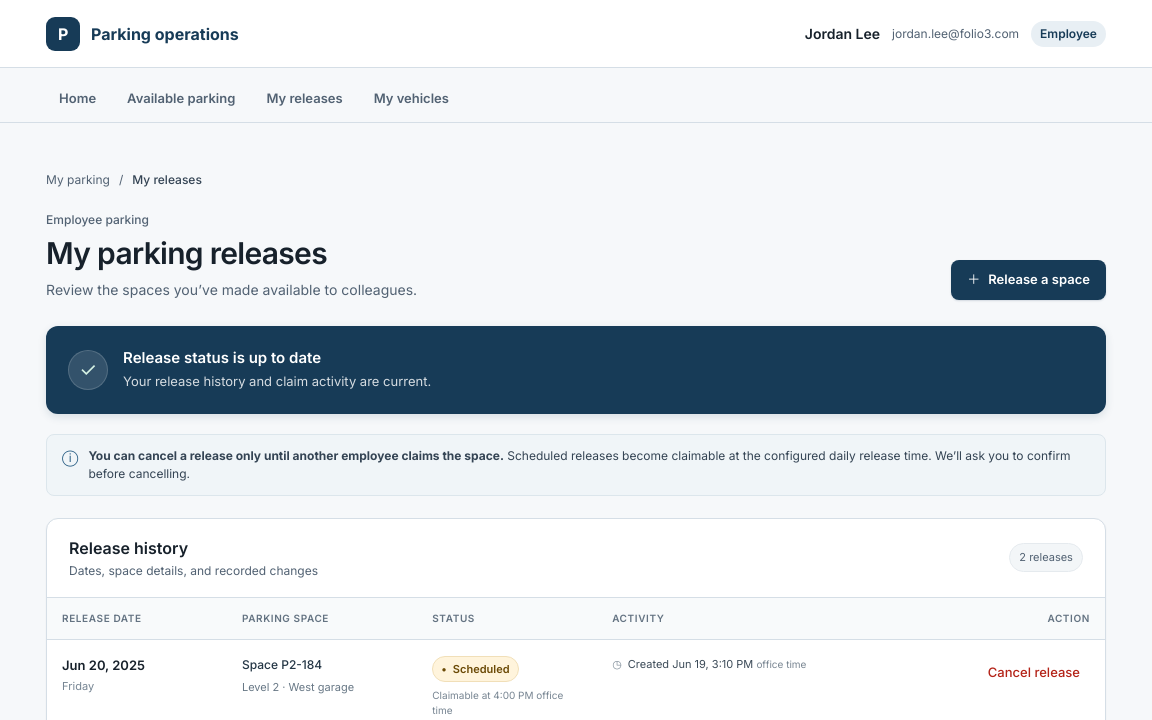
My parking releases › [AC-3] retrieves release history and requires confirmation before cancelling an unclaimed release
Expected: the heading "My parking releases" is shown, left=46, top=234, right=327, bottom=270
Expected: the heading "Release status is up to date" is shown, left=123, top=348, right=321, bottom=367
Click the button with aria-label "Cancel release for Jun 20, 2025". click: (1034, 672)
box: left=978, top=656, right=1090, bottom=688
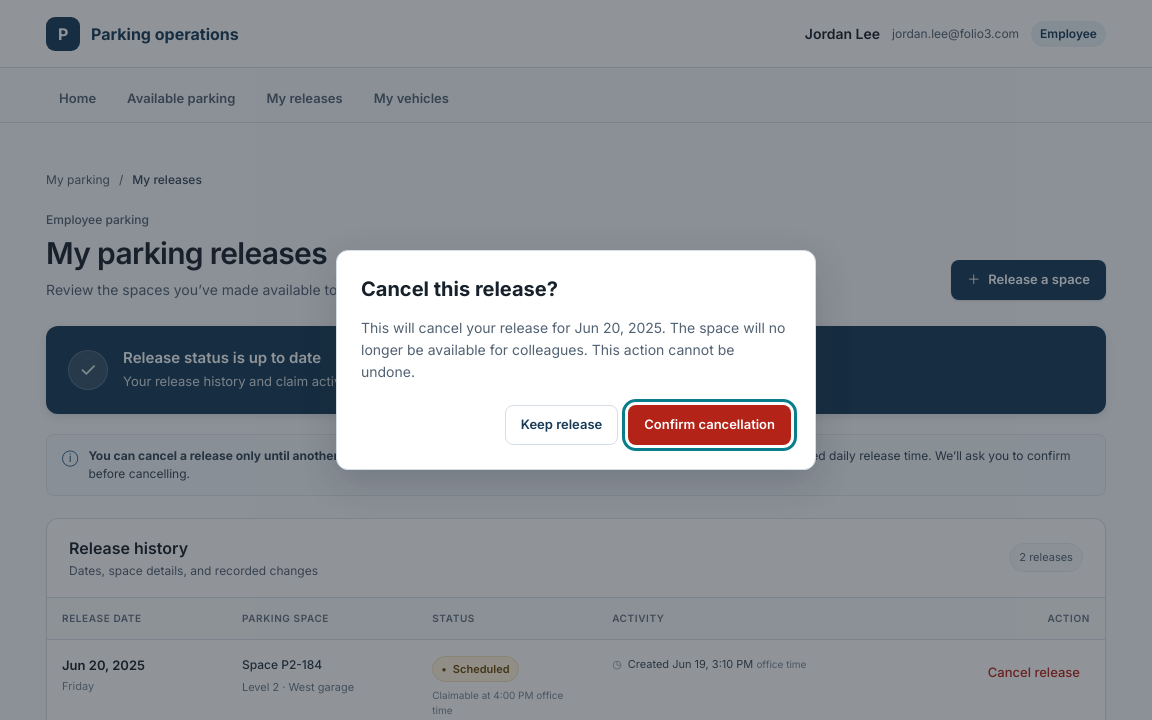
Expected: the dialog "Cancel this release?" is shown, left=336, top=250, right=816, bottom=470
Click the button "Confirm cancellation". click: (710, 424)
box: left=628, top=404, right=791, bottom=444
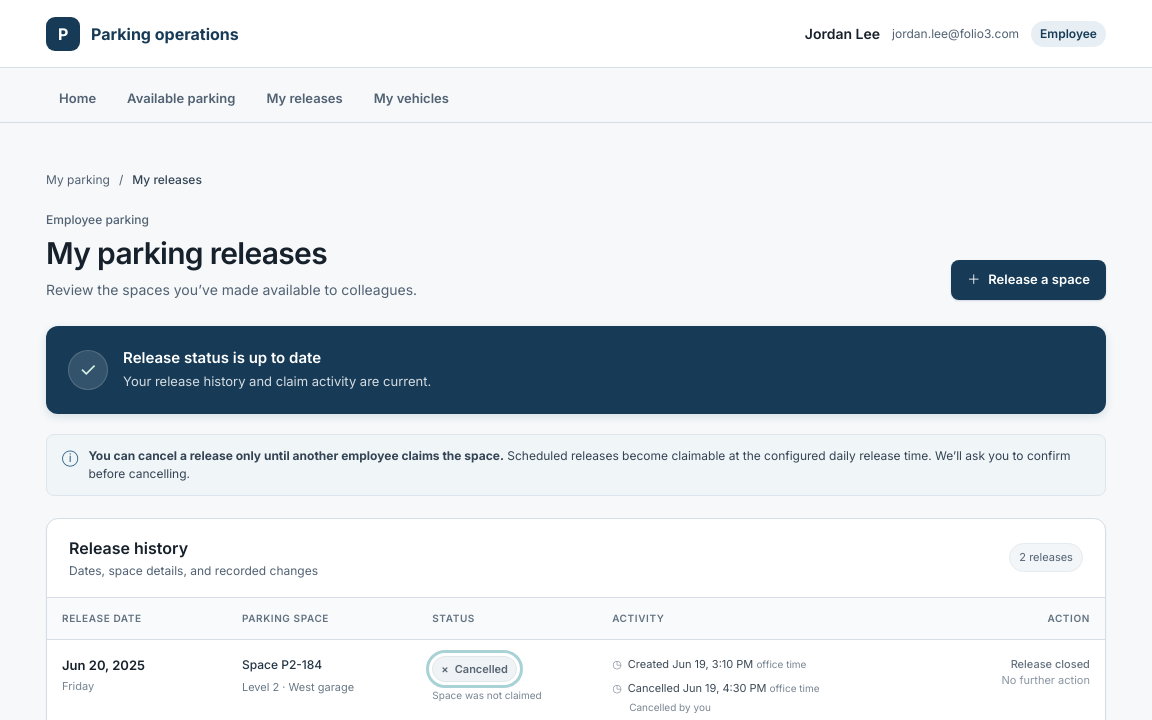
Expected: the dialog is gone
Expected: the element named "Status: Cancelled" is shown, left=432, top=656, right=517, bottom=682
Expected: the text "Cancelled Jun 19, 4:30 PM" is shown, left=628, top=680, right=820, bottom=697
